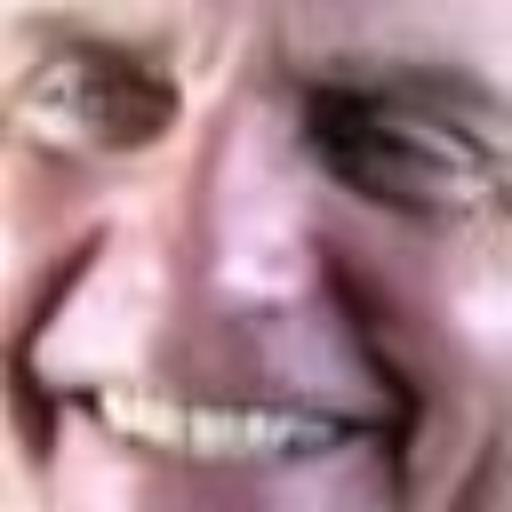left_eye: (319, 108, 483, 191)
left_lip_corner: (343, 397, 411, 455)
right_eye: (28, 69, 169, 131)
right_lip_corner: (47, 373, 122, 424)
